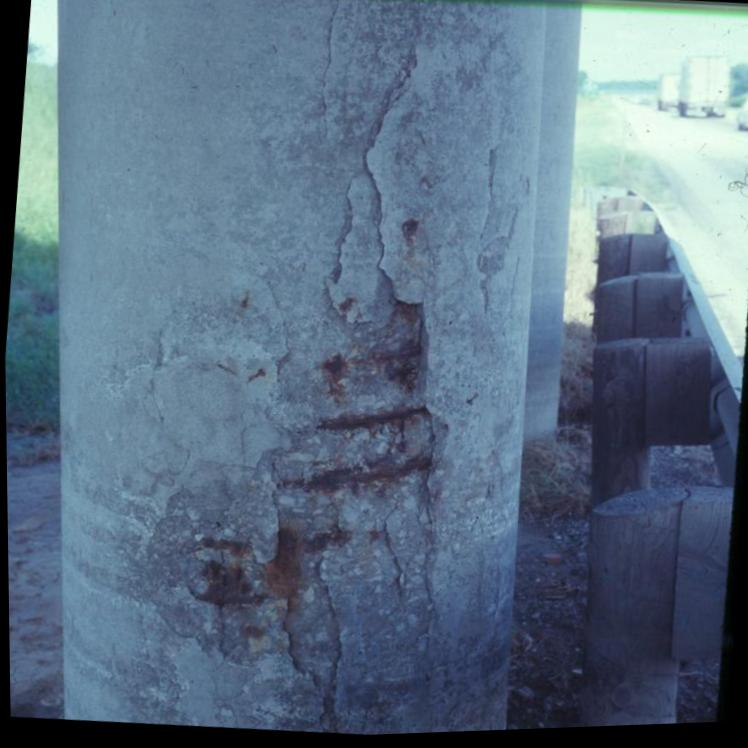damage: (132, 54, 448, 736)
